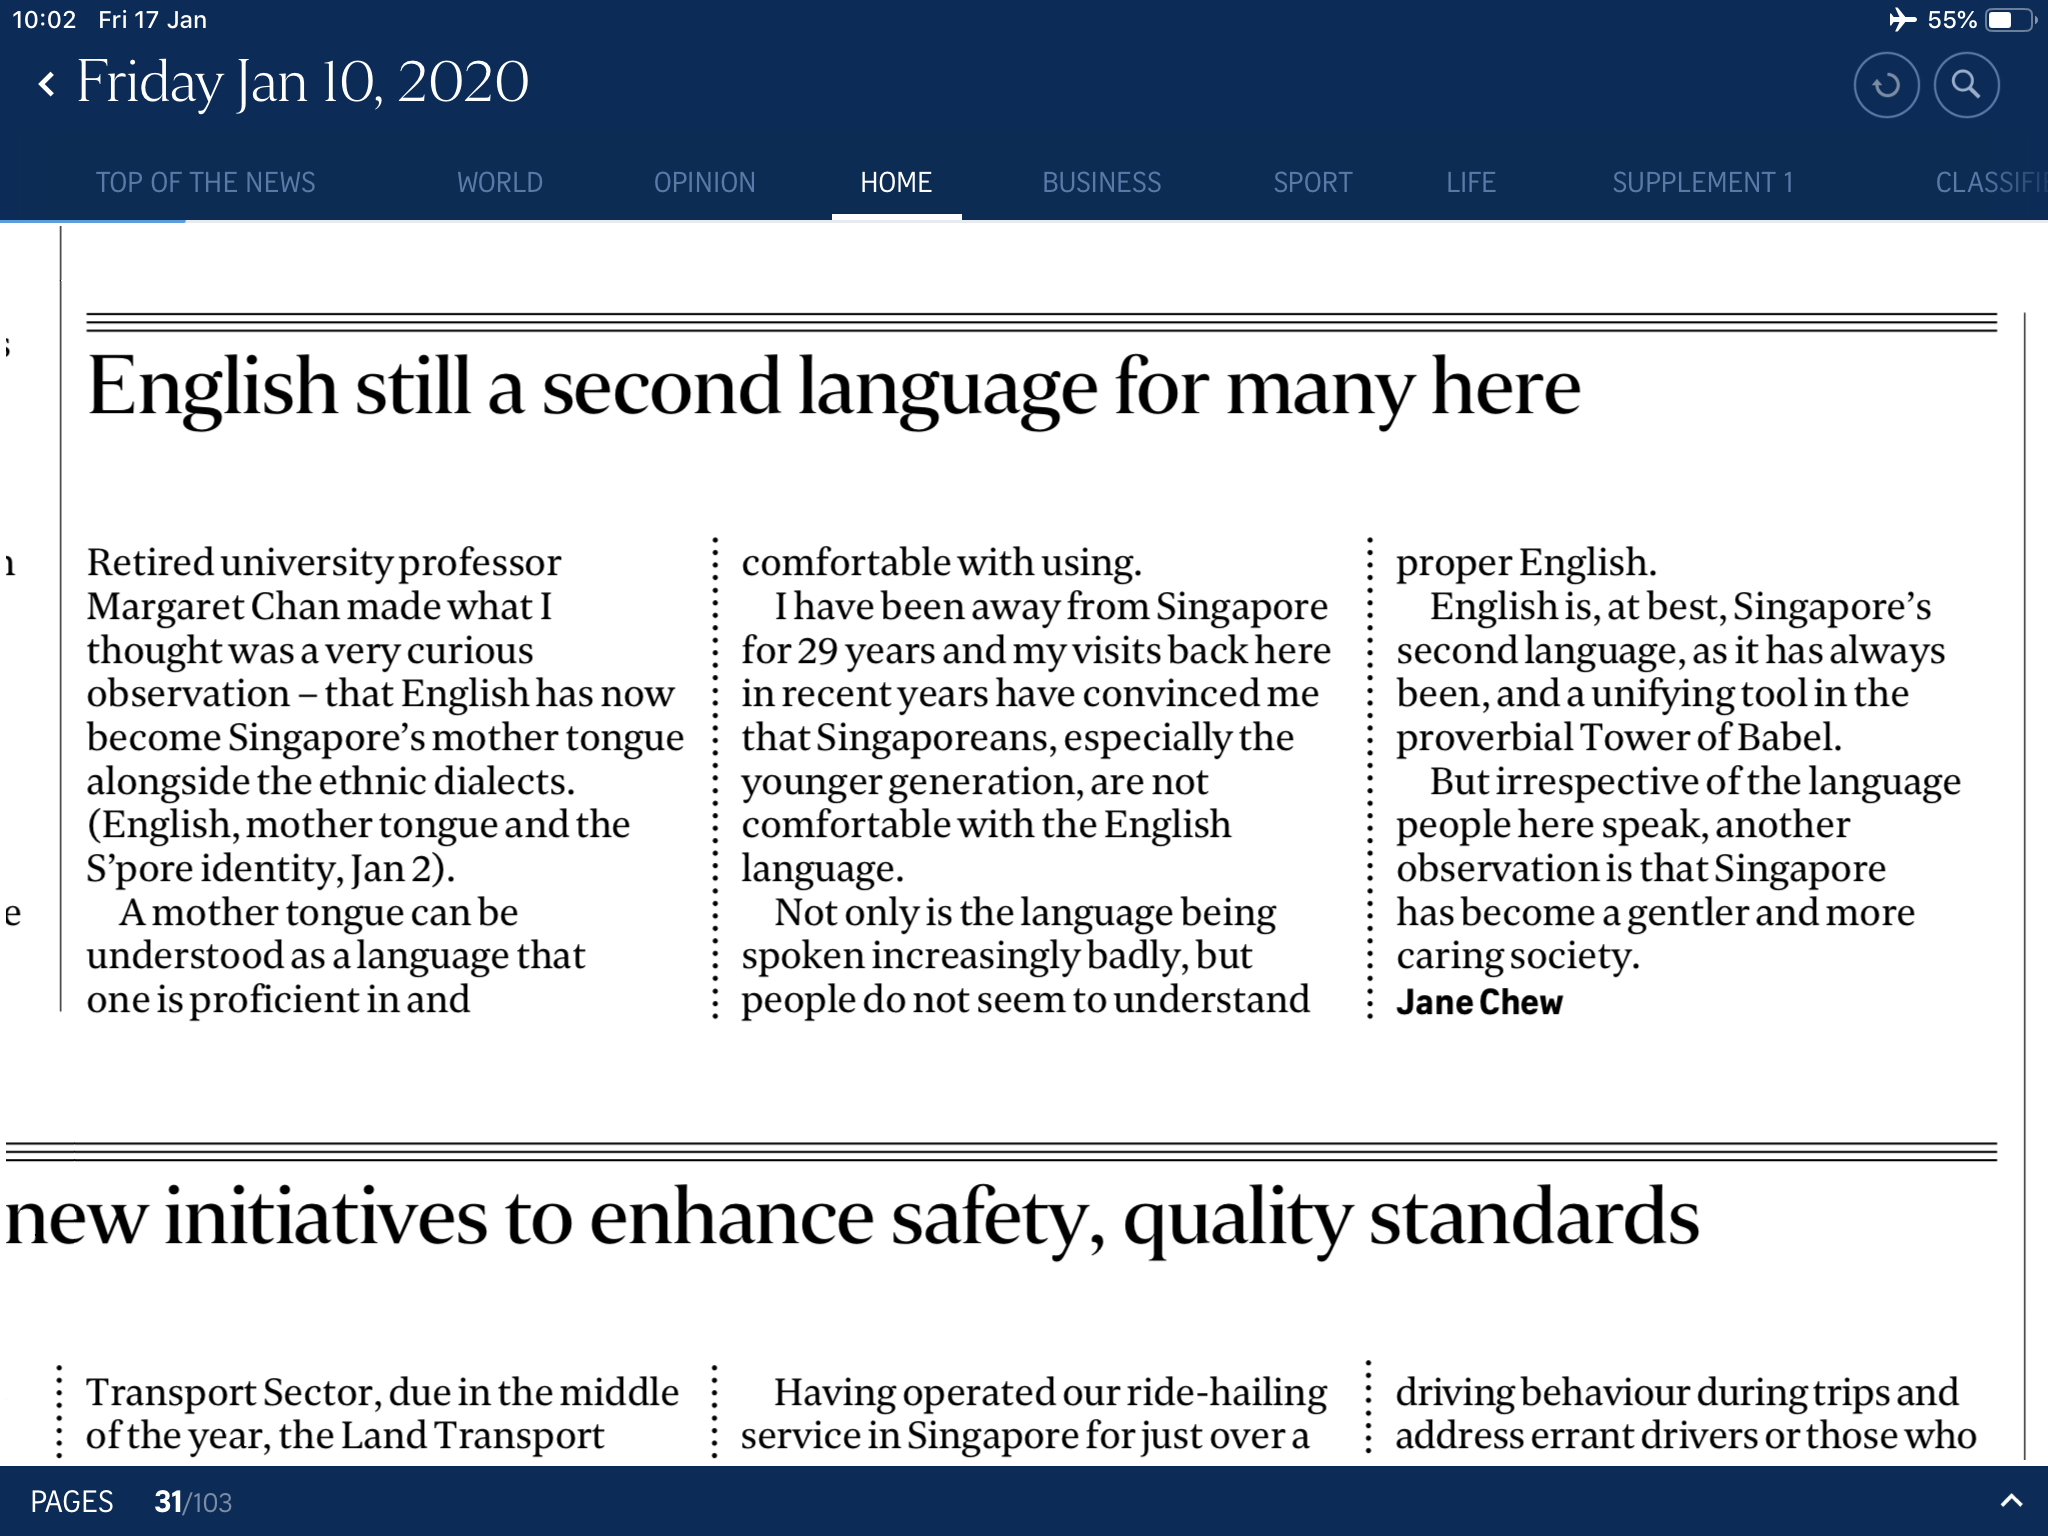Byline: (1397, 986, 1567, 1025)
Headline: (10, 1179, 1705, 1263), (89, 349, 1587, 434)
Text: (84, 542, 684, 1018), (739, 545, 1338, 1021), (1392, 544, 1966, 983), (82, 1371, 684, 1455), (740, 1375, 1342, 1459), (1390, 1376, 1992, 1460)
